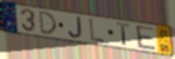3: (20, 8, 36, 33)
D: (38, 10, 58, 36)
E: (135, 25, 157, 52)
J: (67, 16, 84, 40)
L: (88, 18, 106, 44)
T: (115, 21, 132, 47)
